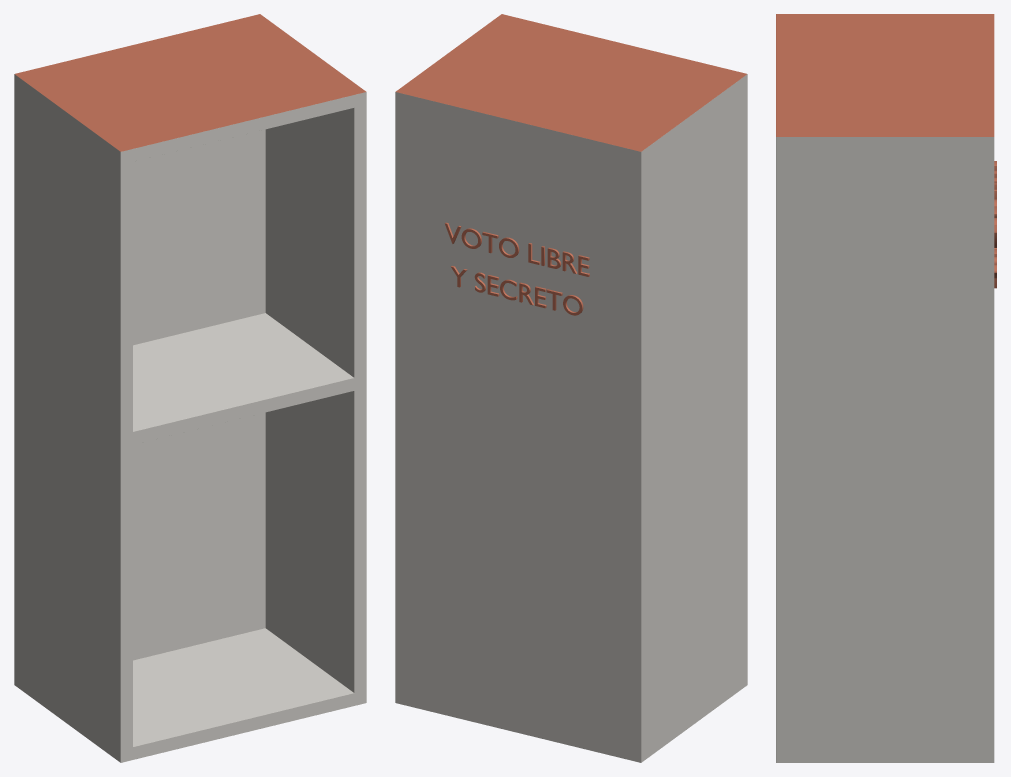
The model's file is Mampara.fbx.
3 renders of one model, left to right at view 1: azimuth 30°, elevation 25°; view 2: azimuth 150°, elevation 25°; view 3: azimuth 270°, elevation 25°, orthographic. The views are drawn at different scales.
Visible parts, largest first — view 1: Mampara; view 2: Mampara; view 3: Mampara.
Boxes of the visible parts, x1,y1,x2,y2 form: Mampara: (14, 14, 366, 762); Mampara: (395, 14, 747, 762); Mampara: (776, 14, 996, 762).
Bounding box in the file's own units: 0.8 × 1.9 × 0.607.
